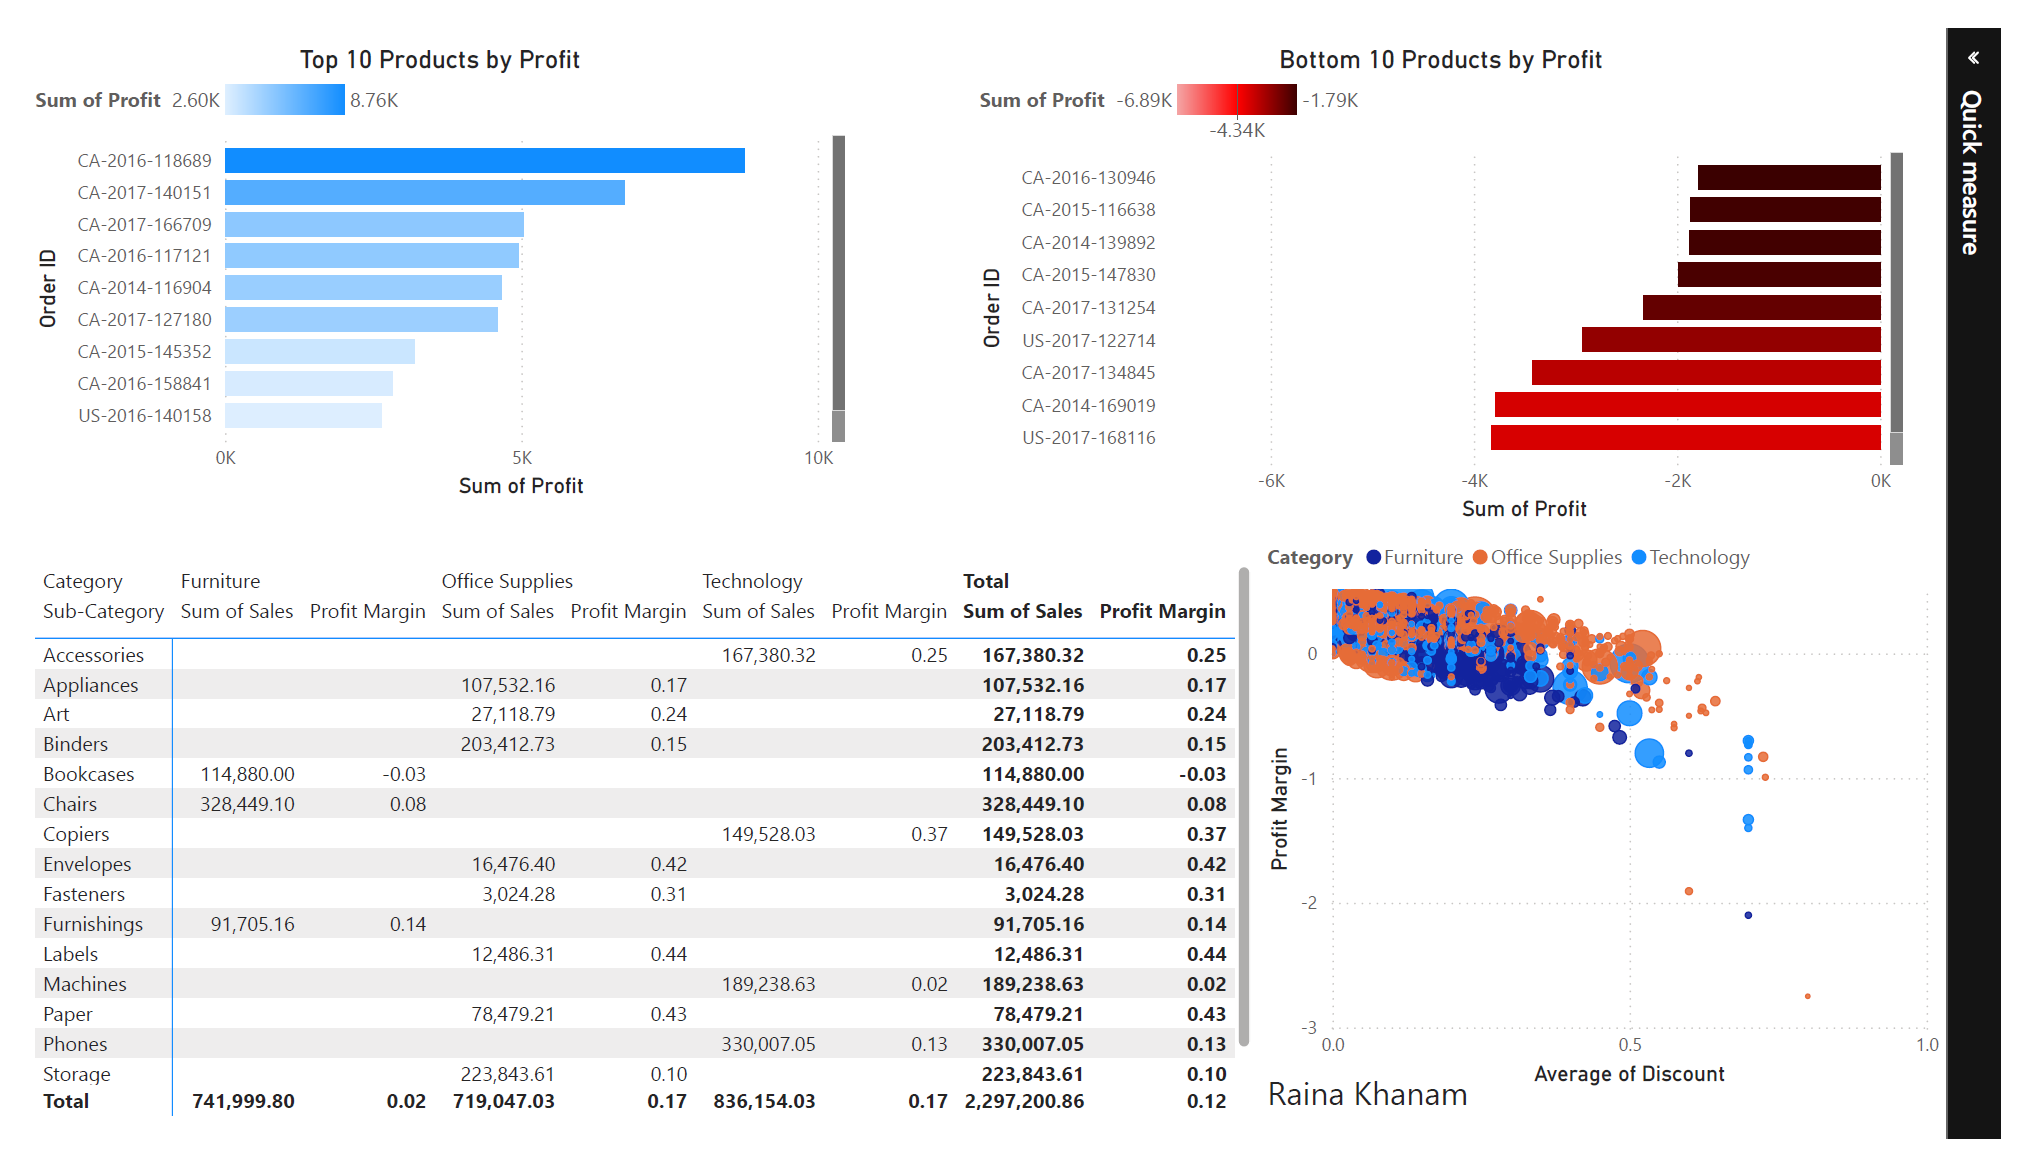

What the dashboard file says about the page in this screenshot:
{"tool":"powerbi","page":{"name":"Product Analysis","canvas":[1280,720],"ordinal":1},"visuals":[{"type":"barChart","title":"Top 10 Products by Profit","fields":{"Y":["Sum(superstore.Profit)"],"Category":["superstore.Order ID"]},"box":[0,0,550,307.5],"z":0},{"type":"barChart","title":"Bottom 10 Products by Profit","fields":{"Y":["Sum(superstore.Profit)"],"Category":["superstore.Order ID"]},"box":[630,0,626.2,322.5],"z":1},{"type":"pivotTable","fields":{"Values":["Sum(superstore.Sales)","superstore.Profit Margin"],"Columns":["superstore.Category"],"Rows":["superstore.Sub-Category"]},"box":[0,342.9,821.4,377.1],"z":2},{"type":"scatterChart","fields":{"X":["superstore.Discount"],"Category":["superstore.Product Name"],"Series":["superstore.Category"],"Size":["superstore.Total Sales"],"Y":["superstore.Profit Margin"]},"box":[822,322,458,378],"z":3},{"type":"textbox","box":[822,680,162,40],"z":4}]}

Visuals, with their boxes on the page's 1280x720 design canvas (x1, y1, x2, y2). These are canvas units, not pixel positions in the 2029x1162 screenshot, which may show the page scaled, cropped or inside an application window:
"Top 10 Products by Profit" barChart: BBox(0, 0, 550, 308)
"Bottom 10 Products by Profit" barChart: BBox(630, 0, 1256, 322)
pivotTable - Sum(superstore.Sales) x superstore.Profit Margin: BBox(0, 343, 821, 720)
scatterChart - superstore.Discount x superstore.Product Name: BBox(822, 322, 1280, 700)
textbox: BBox(822, 680, 984, 720)
